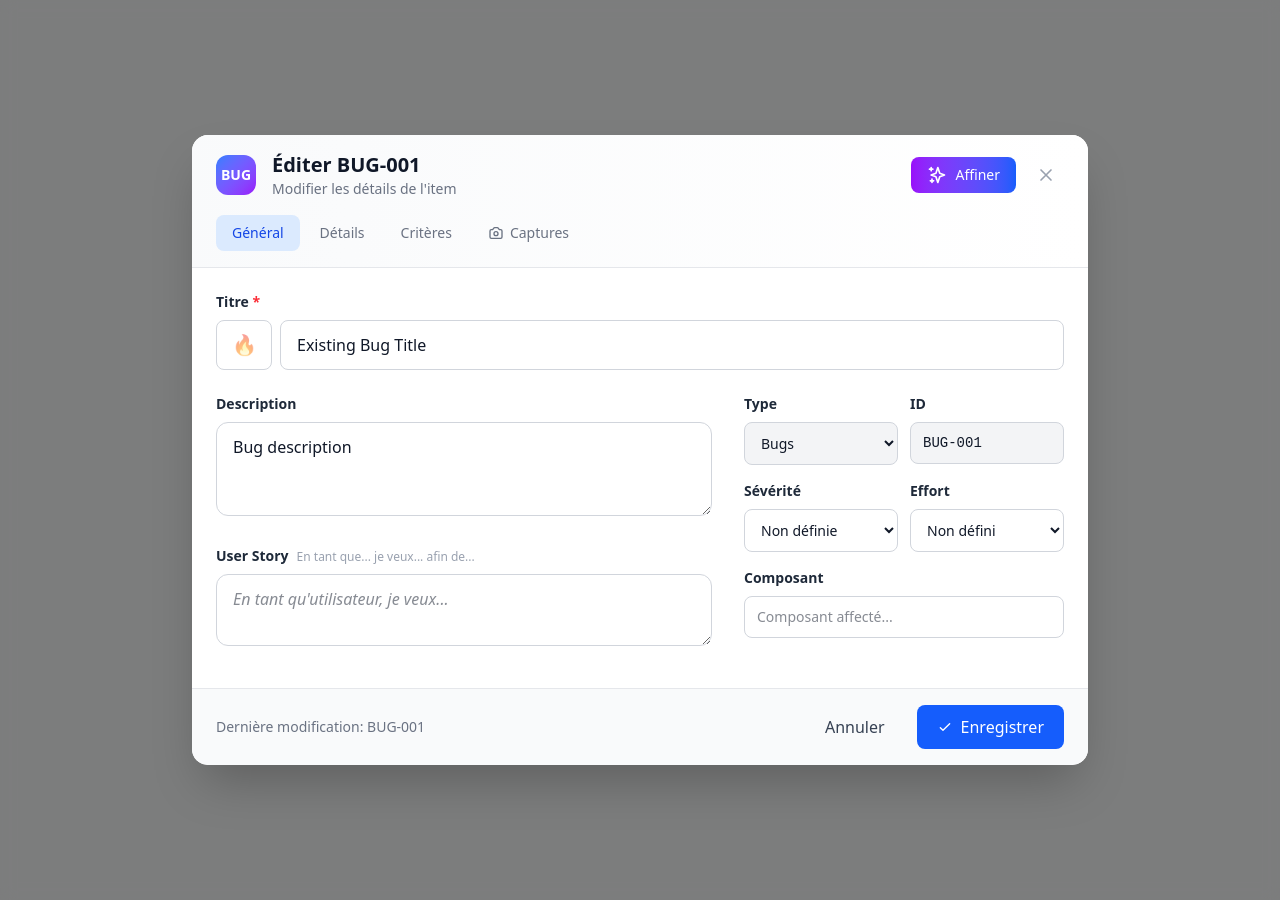
Test: ItemEditorModal - Tab Navigation › 8. switches to Criteria tab when clicked
Click the button "Critères": (426, 233) top-left (385, 215), bottom-right (468, 251)
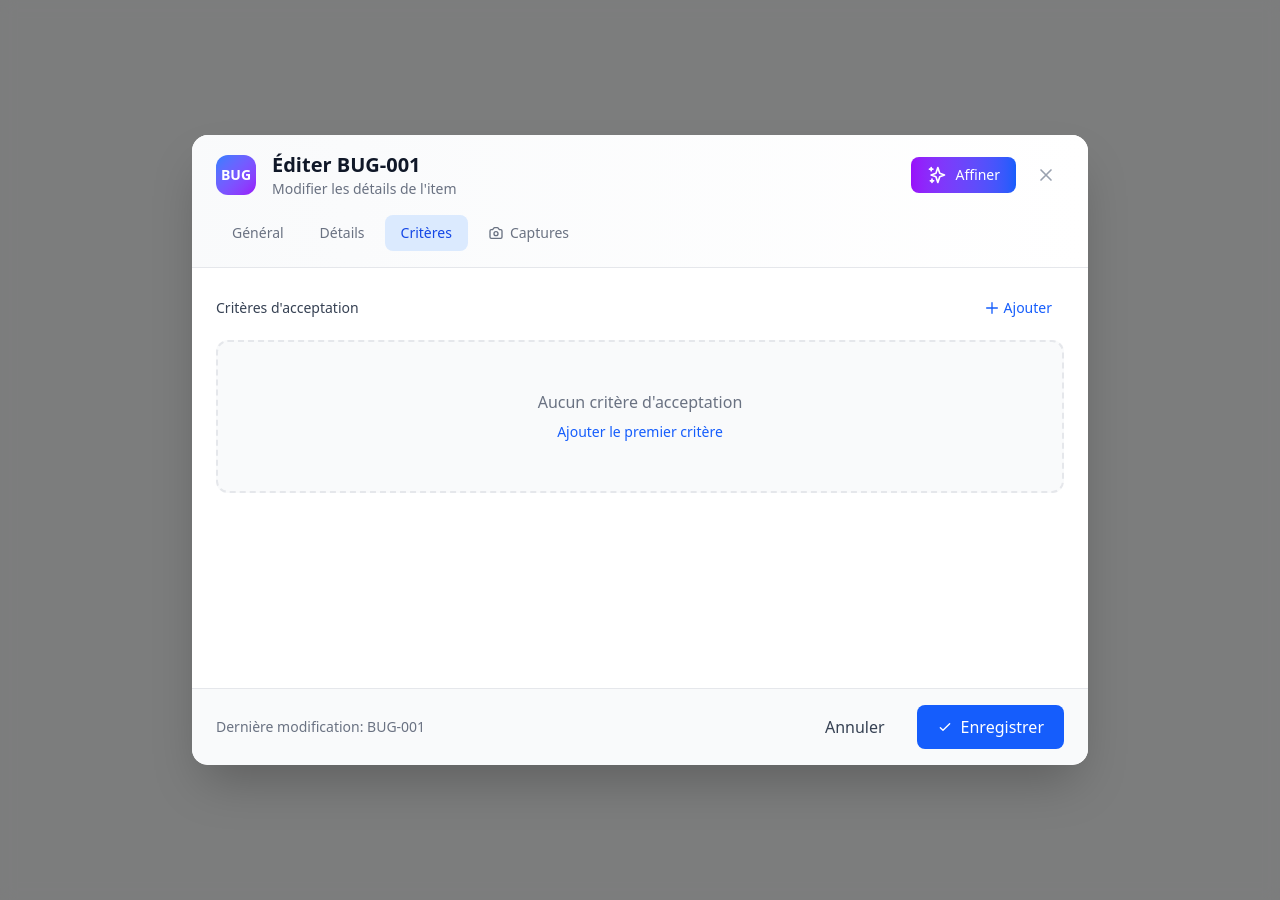
Check: the text "Critères d'acceptation" is shown, box top-left (216, 298), bottom-right (359, 318)
